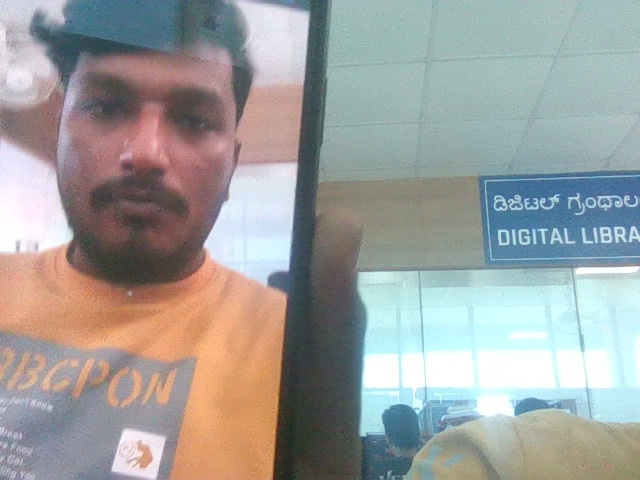fake: (24, 0, 270, 348)
